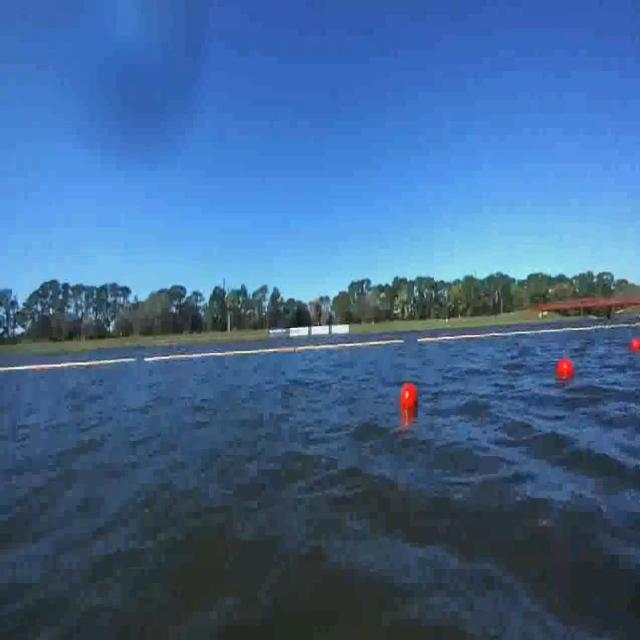red-buoy: (557, 357, 575, 380), (403, 382, 418, 408), (630, 339, 640, 354)
